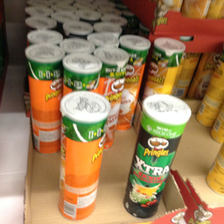chips: (125, 93, 188, 223), (59, 90, 112, 221), (24, 44, 63, 155)
